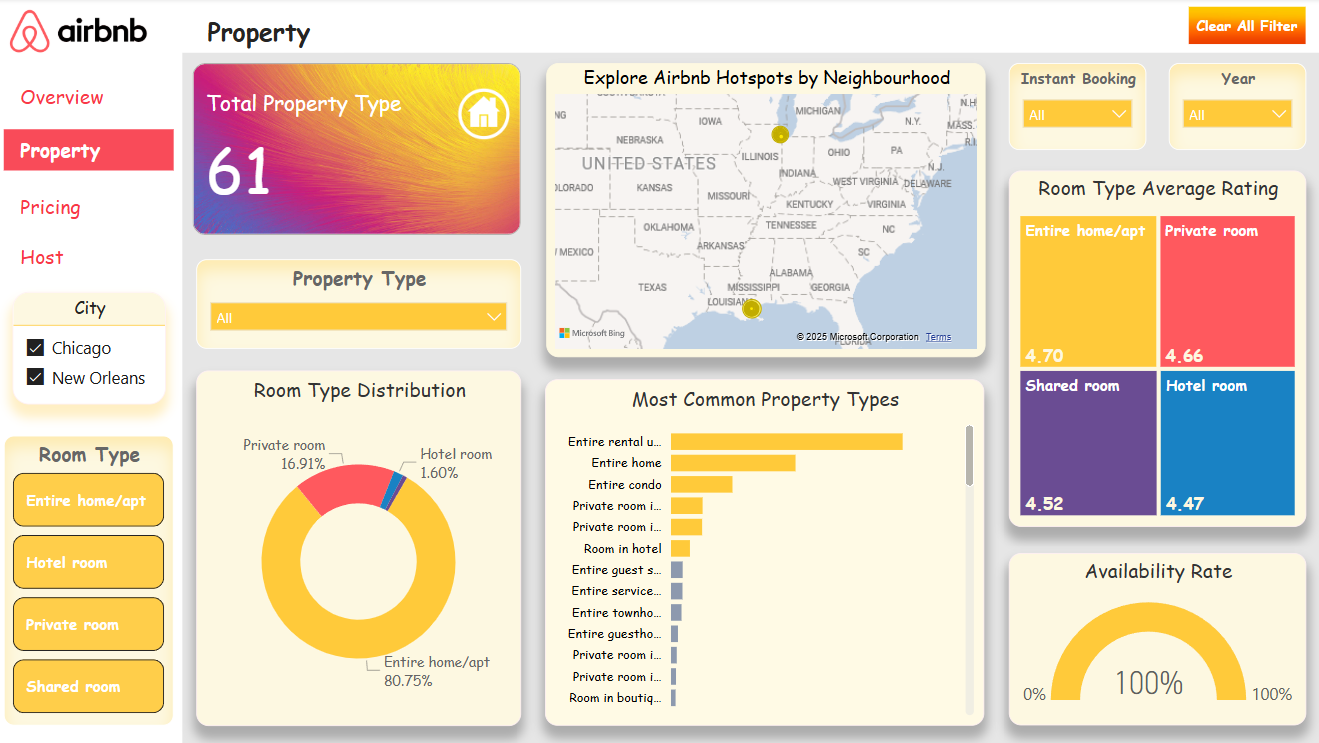

What the dashboard file says about the page in this screenshot:
{"tool":"powerbi","page":{"name":"Property analysis","canvas":[1280,720],"ordinal":1},"visuals":[{"type":"shape","title":"navigator","box":[0,0,181,720.2],"z":0},{"type":"shape","title":"header","box":[172.5,0,1107.5,53.1],"z":1000},{"type":"textbox","box":[181,8.4,155.6,44.6],"z":2000},{"type":"actionButton","box":[8.4,74.8,164.1,39.8],"z":3000},{"type":"actionButton","box":[8.4,181,164.1,39.8],"z":4000},{"type":"actionButton","box":[8.4,229.2,164.1,39.8],"z":5000},{"type":"image","box":[8.4,3.6,143.6,55.5],"z":6000},{"type":"actionButton","box":[8.4,126.7,164.1,39.8],"z":7000},{"type":"cardVisual","fields":{"Data":["Count(Cleaned_Airbnb_Data.property_type)"]},"box":[190.3,63,317.6,166.1],"z":8000},{"type":"map","title":"Explore Airbnb Hotspots by Neighbourhood","fields":{"X":["Cleaned_Airbnb_Data.longitude"],"Y":["Cleaned_Airbnb_Data.latitude"],"Size":["Count(Cleaned_Airbnb_Data.id)"]},"box":[532.2,63,424.3,283.7],"z":9000},{"type":"slicer","title":"City","fields":{"Values":["Cleaned_Airbnb_Data.City"]},"box":[17,283.7,147.9,109.1],"z":10000},{"type":"slicer","title":"Property Type","fields":{"Values":["Cleaned_Airbnb_Data.property_type"]},"box":[194.5,252.4,314,86.2],"z":11000},{"type":"donutChart","title":"Room Type Distribution","fields":{"Category":["Cleaned_Airbnb_Data.room_type"],"Y":["Count(Cleaned_Airbnb_Data.id)"]},"box":[194,360.1,314,343.1],"z":12000},{"type":"advancedSlicerVisual","title":"Room Type","fields":{"Values":["Cleaned_Airbnb_Data.room_type"]},"box":[8.4,422.3,164.1,279.9],"z":13000},{"type":"clusteredBarChart","title":"Most Common Property Types","fields":{"Category":["Cleaned_Airbnb_Data.property_type"],"Y":["Count(Cleaned_Airbnb_Data.id)"]},"box":[531,368.6,424.3,334.6],"z":14000},{"type":"slicer","title":"Year","fields":{"Values":["Cleaned_Airbnb_Data.host_since.Variation.Date Hierarchy.Year"]},"box":[1132.8,62.8,133,83.7],"z":16000},{"type":"gauge","title":"Availability Rate","fields":{"Y":["CountNonNull(Cleaned_Airbnb_Data.has_availability)"]},"box":[978.4,535.9,287.3,166.1],"z":16500},{"type":"treemap","title":"Room Type Average  Rating","fields":{"Group":["Cleaned_Airbnb_Data.room_type"],"Values":["Cleaned_Airbnb_Data.Avg_Rating_Filtered"]},"box":[978.4,166.1,287.3,344.3],"z":17000},{"type":"slicer","title":"Instant Booking","fields":{"Values":["Cleaned_Airbnb_Data.instant_bookable"]},"box":[978.8,62.8,133,83.7],"z":18000},{"type":"actionButton","box":[1152.1,8.5,112.4,36.3],"z":19000}]}

Visuals, with their boxes in screenshot pixels (x1, y1, x2, y2), scaled from the page's 1280x720 canvas onto the 1319x743 screenshot:
"navigator" shape: rect(0, 0, 187, 742)
"header" shape: rect(178, 0, 1318, 55)
textbox: rect(187, 9, 347, 55)
actionButton: rect(9, 77, 178, 118)
actionButton: rect(9, 187, 178, 228)
actionButton: rect(9, 237, 178, 278)
image: rect(9, 4, 157, 61)
actionButton: rect(9, 131, 178, 172)
cardVisual - Count(Cleaned_Airbnb_Data.property_type): rect(196, 65, 523, 236)
"Explore Airbnb Hotspots by Neighbourhood" map: rect(548, 65, 986, 358)
"City" slicer: rect(18, 293, 170, 405)
"Property Type" slicer: rect(200, 260, 524, 349)
"Room Type Distribution" donutChart: rect(200, 372, 523, 726)
"Room Type" advancedSlicerVisual: rect(9, 436, 178, 725)
"Most Common Property Types" clusteredBarChart: rect(547, 380, 984, 726)
"Year" slicer: rect(1167, 65, 1304, 151)
"Availability Rate" gauge: rect(1008, 553, 1304, 724)
"Room Type Average  Rating" treemap: rect(1008, 171, 1304, 527)
"Instant Booking" slicer: rect(1009, 65, 1146, 151)
actionButton: rect(1187, 9, 1303, 46)
